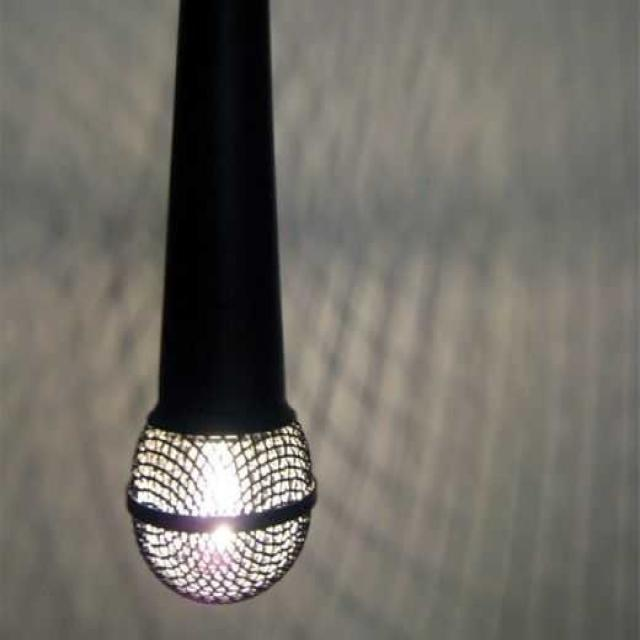microphone: (126, 5, 319, 607)
